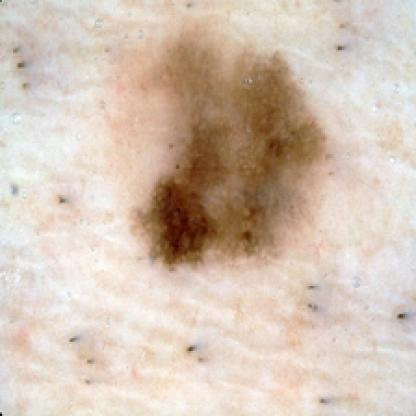malignant: (143, 63, 305, 260)
